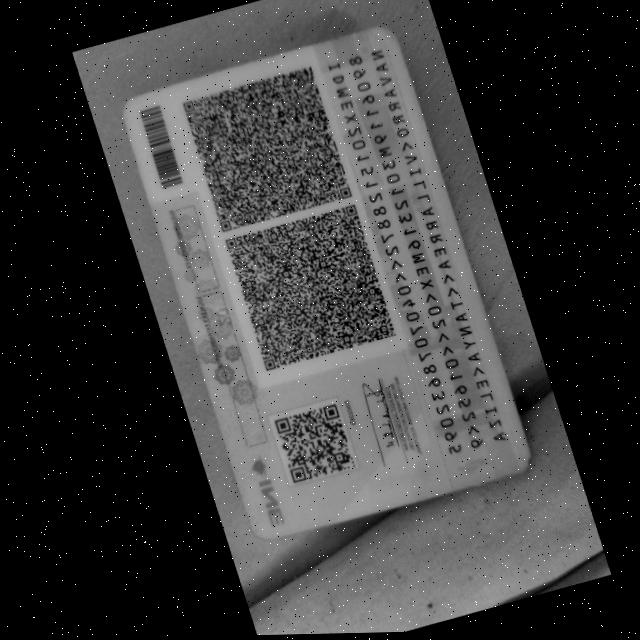card: (124, 29, 528, 538)
